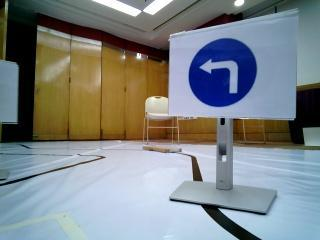left: (176, 32, 280, 114)
